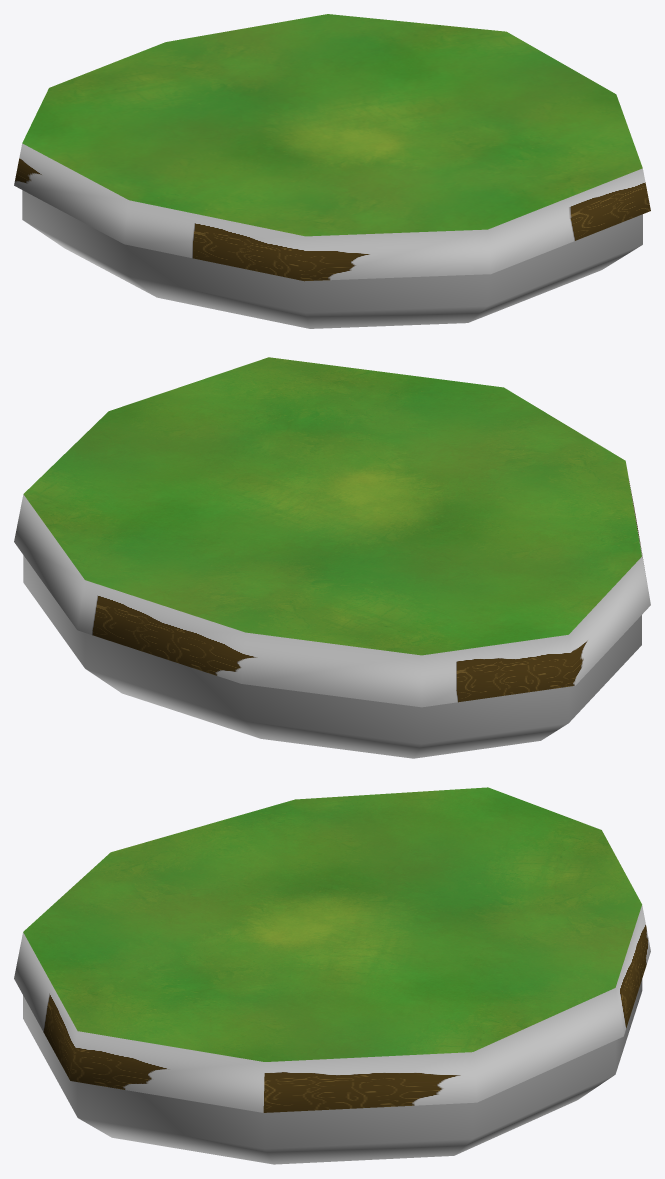
The model's file is up and down island.fbx.
3 renders of one model, top to bottom at view 1: azimuth 30°, elevation 25°; view 2: azimuth 150°, elevation 25°; view 3: azimuth 270°, elevation 25°, orthographic. The views are drawn at different scales.
Visible parts, largest first — view 1: polySurface115; view 2: polySurface115; view 3: polySurface115.
Part boxes in pixels (x1,y1,x2,y2): polySurface115: (14,14,650,328); polySurface115: (14,357,650,758); polySurface115: (14,787,650,1164).
Bounding box in the file's own units: 0.1543 × 0.0428 × 0.1471.
